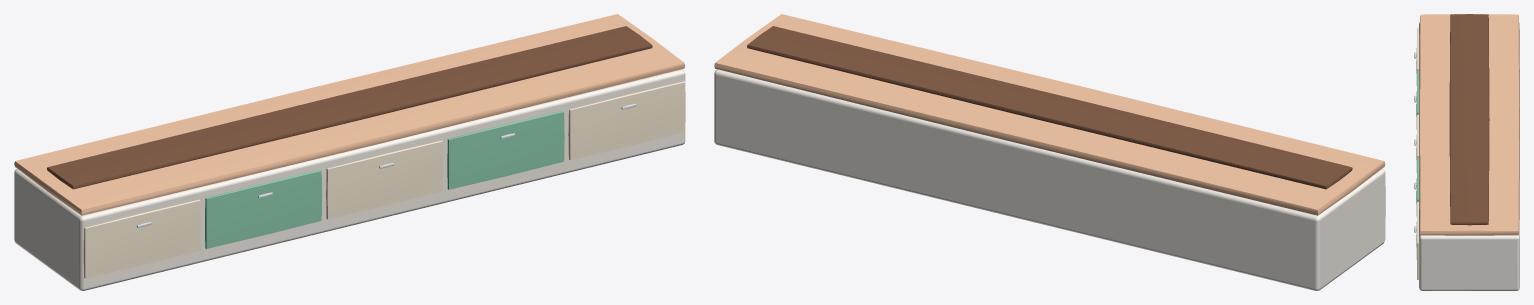
The model's file is spine-bench.glb.
3 renders of one model, left to right at view 1: azimuth 30°, elevation 25°; view 2: azimuth 150°, elevation 25°; view 3: azimuth 270°, elevation 25°, orthographic. The views are drawn at different scales.
Visible parts, largest first — view 1: cabinet-door (×5), cabinet-top, cabinet, planter-inset; view 2: cabinet, cabinet-top, planter-inset; view 3: cabinet-top, planter-inset, cabinet, cabinet-door (×5).
Boxes of the visible parts, bbox=[...] form: cabinet-door (×5): bbox=[83, 81, 685, 278]; cabinet-top: bbox=[14, 14, 685, 215]; cabinet: bbox=[14, 69, 685, 290]; planter-inset: bbox=[47, 26, 652, 189]; cabinet: bbox=[714, 69, 1385, 290]; cabinet-top: bbox=[714, 14, 1385, 215]; planter-inset: bbox=[747, 26, 1352, 189]; cabinet-top: bbox=[1419, 14, 1519, 235]; planter-inset: bbox=[1449, 14, 1489, 225]; cabinet: bbox=[1419, 22, 1519, 290]; cabinet-door (×5): bbox=[1416, 27, 1419, 279].
Size of the model in its own units: 4.9 by 0.6925 by 1.01.
Materials: 1 (1 with a texture image).
